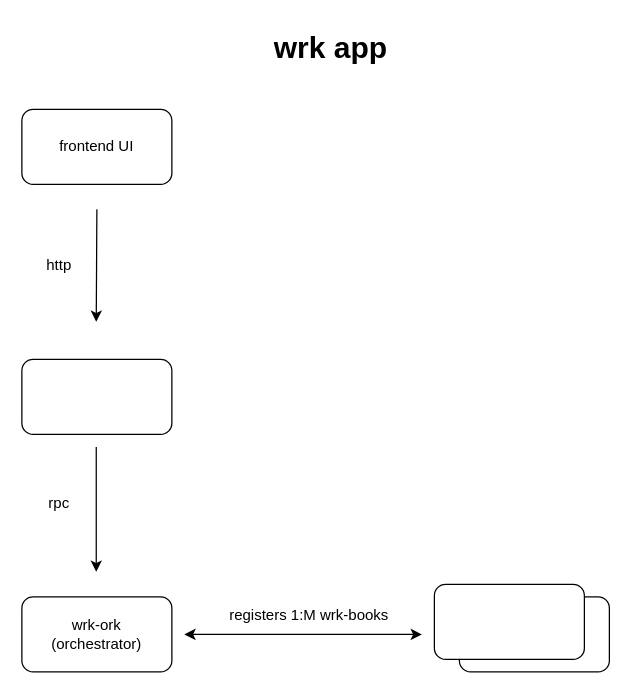
Some shapes in this 631 by 694 pixel diagram are drawn without their labels. The centre of each missing label's shape, as x and y in pixels:
app-node: the point at 96,396
wrk-book: the point at 508,621
